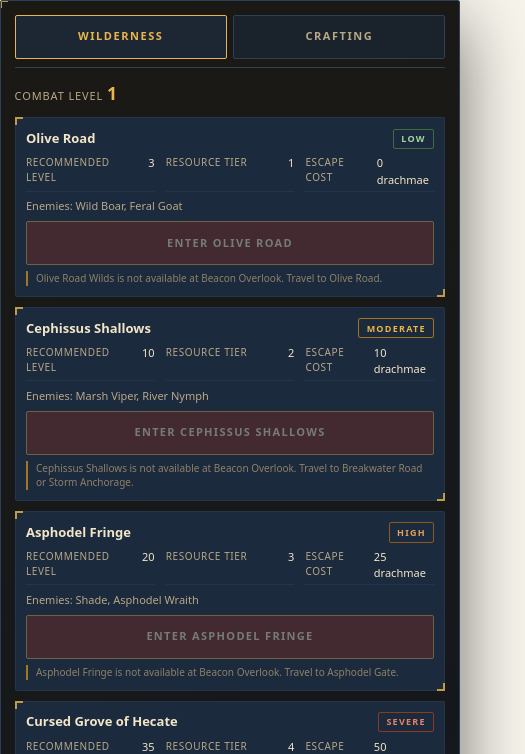
Test: bank-aware crafting UI integration › announces exact carried and bank provenance after a successful craft
Step 1. Click the tab "Crafting" → (339, 37), box [233, 15, 445, 59]
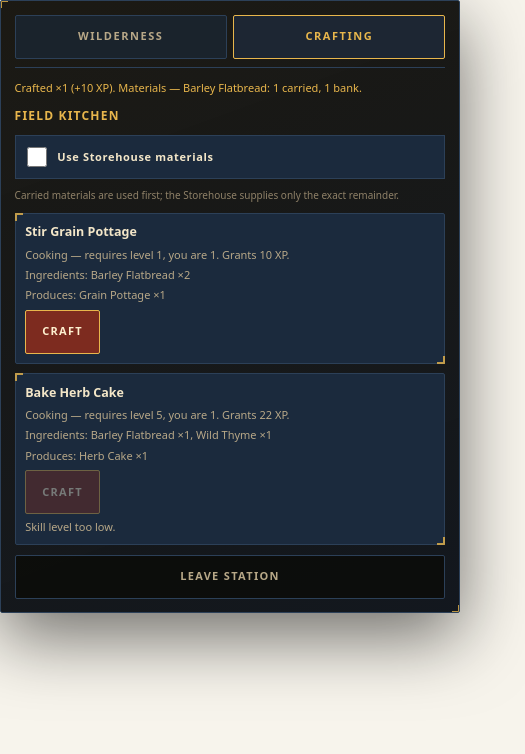
Expected: the message "Crafted ×1 (+10 XP). Materials — Barley Flatbread: 1 carried, 1 bank." is shown, [15, 80, 362, 95]
